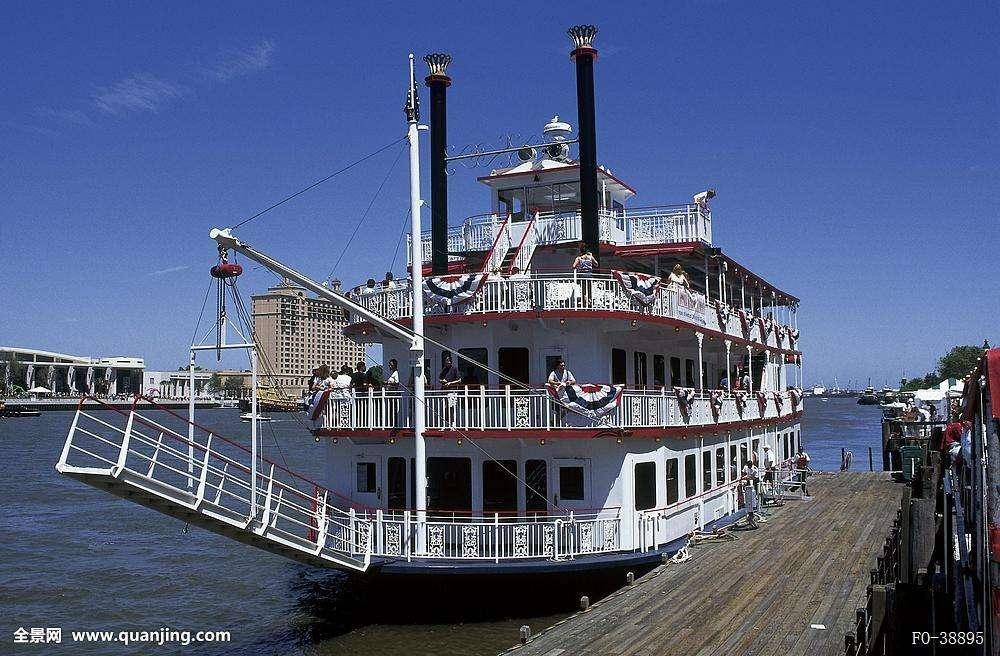youlun: (311, 21, 811, 586)
